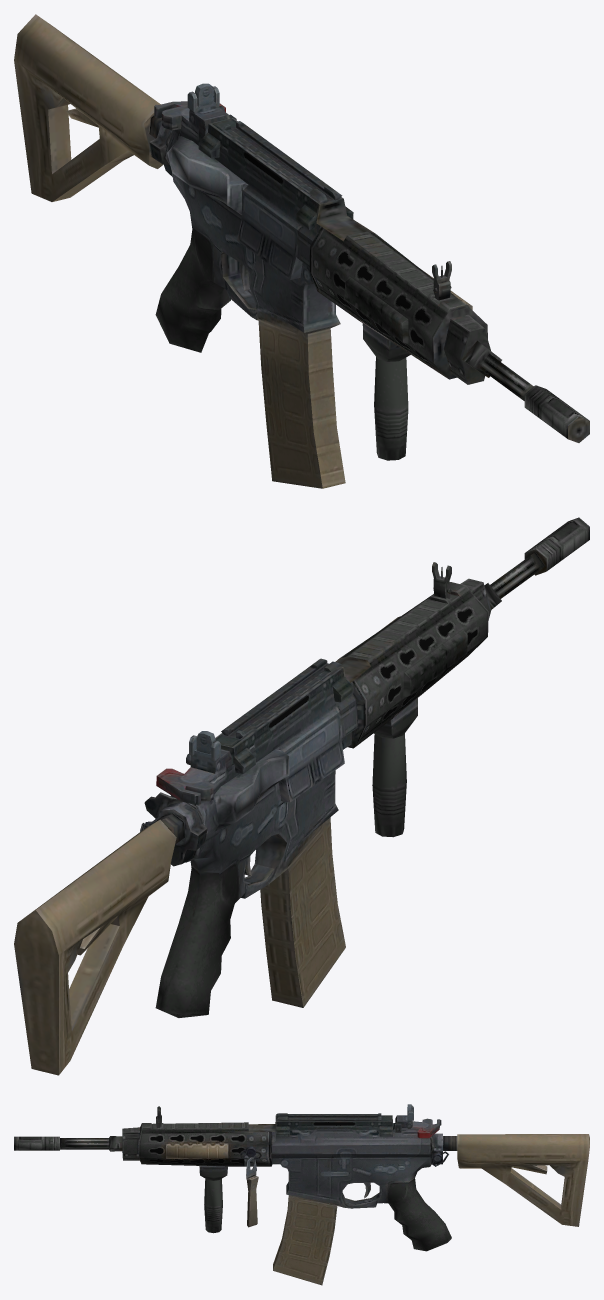
The model's file is Assault_Rifle_bq_qs_01_Body_Main_(000956).glb.
3 renders of one model, top to bottom at view 1: azimuth 30°, elevation 25°; view 2: azimuth 150°, elevation 25°; view 3: azimuth 270°, elevation 25°, orthographic. The views are drawn at different scales.
Parts seen in each view (by area): view 1: bq_qs_01; view 2: bq_qs_01; view 3: bq_qs_01.
Part boxes in pixels (bbox=[...]): bq_qs_01: bbox=[14, 14, 589, 488]; bq_qs_01: bbox=[14, 517, 589, 1075]; bq_qs_01: bbox=[14, 1104, 589, 1285].
Bounding box in the file's own units: 0.0817 × 0.3265 × 0.9691.
1 material, 1 textured.
